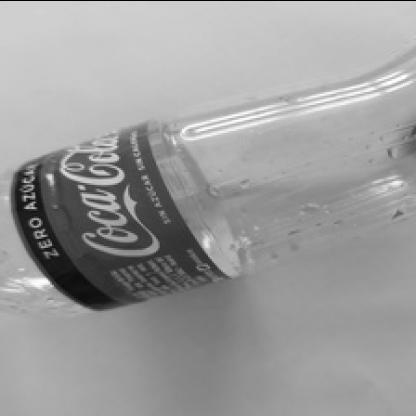plastic_bottles: (1, 47, 416, 321)
